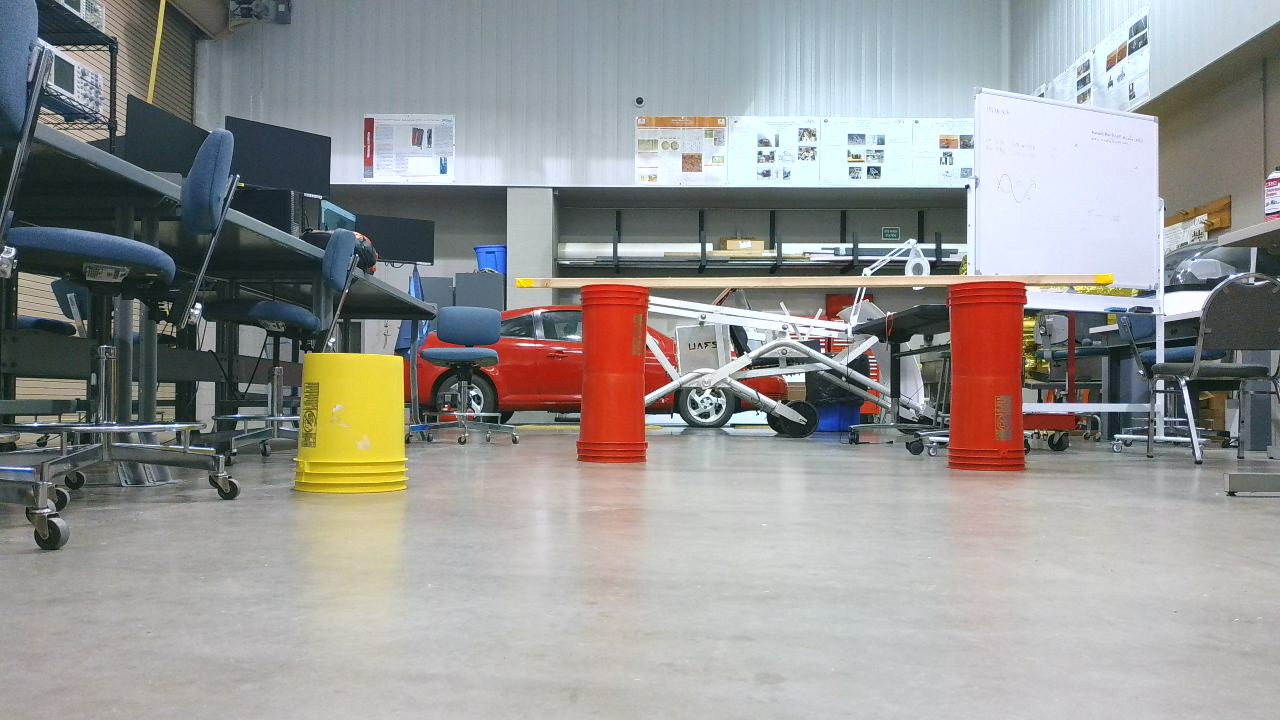red_bucket_arch: (574, 275, 1040, 481)
yellow_bucket: (291, 353, 420, 502)
